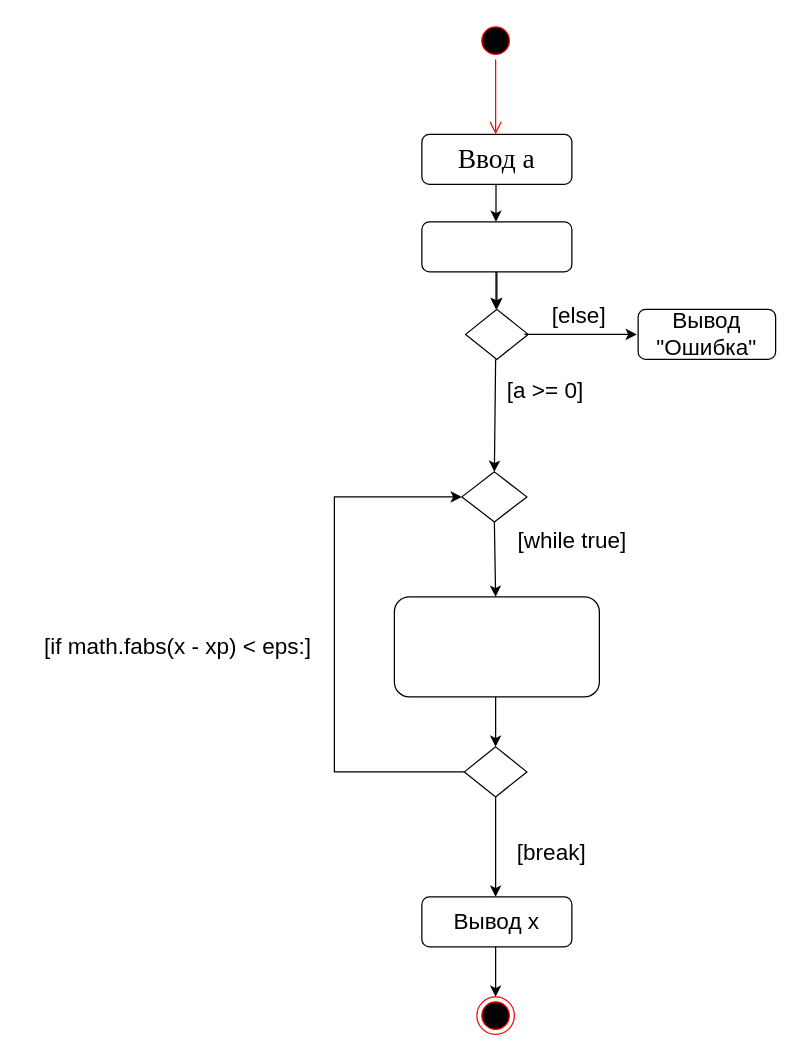
This 798x1056 diagram has some shape labels left out. Each missing label, with the box of its shape:
x = 1: (421, 221, 572, 272)
xp = x x = (x + a / x) / 2: (393, 596, 599, 697)
